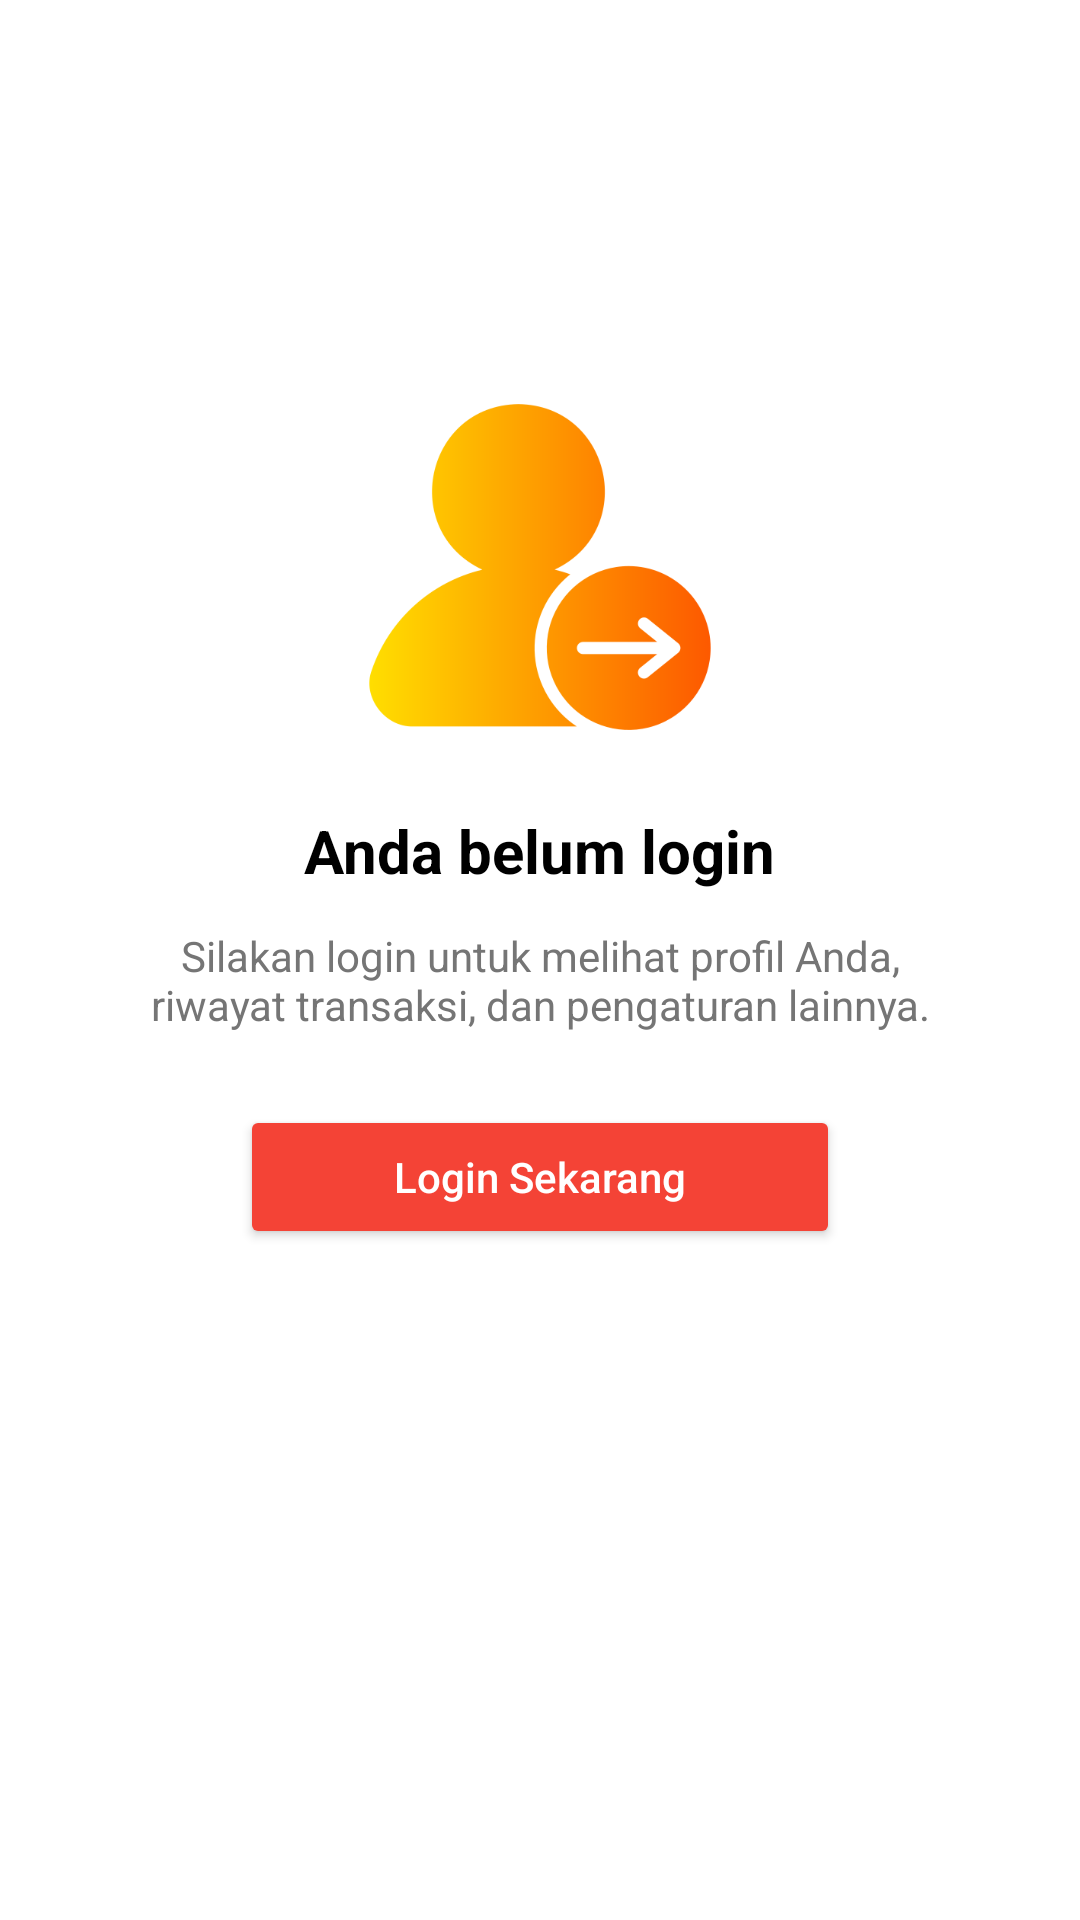

Point at icon controls on the screen. Image size 1080*1920, points as (x,y).
Guest Illustration: (540,567)
